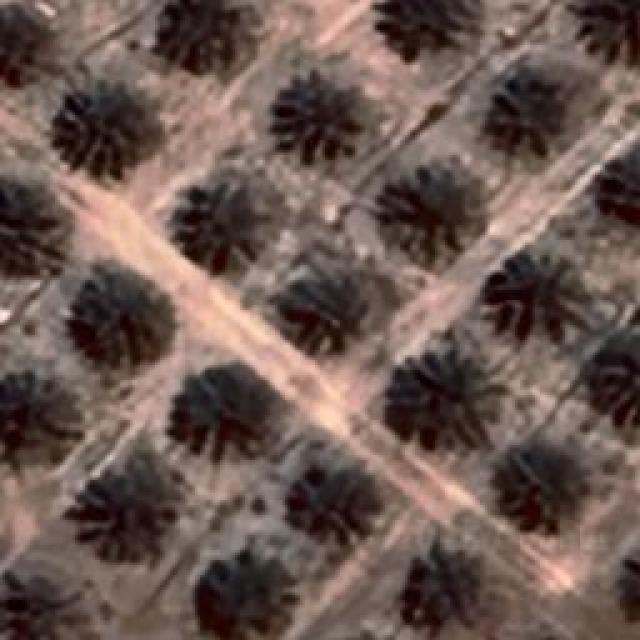PalmTree: (22, 42, 615, 381), (387, 330, 505, 452), (376, 164, 492, 274), (485, 242, 593, 340), (268, 72, 370, 166), (66, 272, 166, 360), (58, 82, 140, 180), (182, 370, 280, 450), (195, 562, 293, 640), (86, 455, 162, 555), (404, 548, 498, 624), (288, 264, 366, 352), (290, 460, 375, 540), (184, 186, 262, 272), (508, 441, 586, 524), (0, 383, 82, 461), (150, 0, 235, 75), (378, 0, 473, 62), (490, 72, 560, 146), (0, 577, 72, 640), (0, 189, 50, 269), (574, 0, 637, 62), (604, 146, 640, 232), (613, 538, 640, 632), (620, 536, 640, 627)
